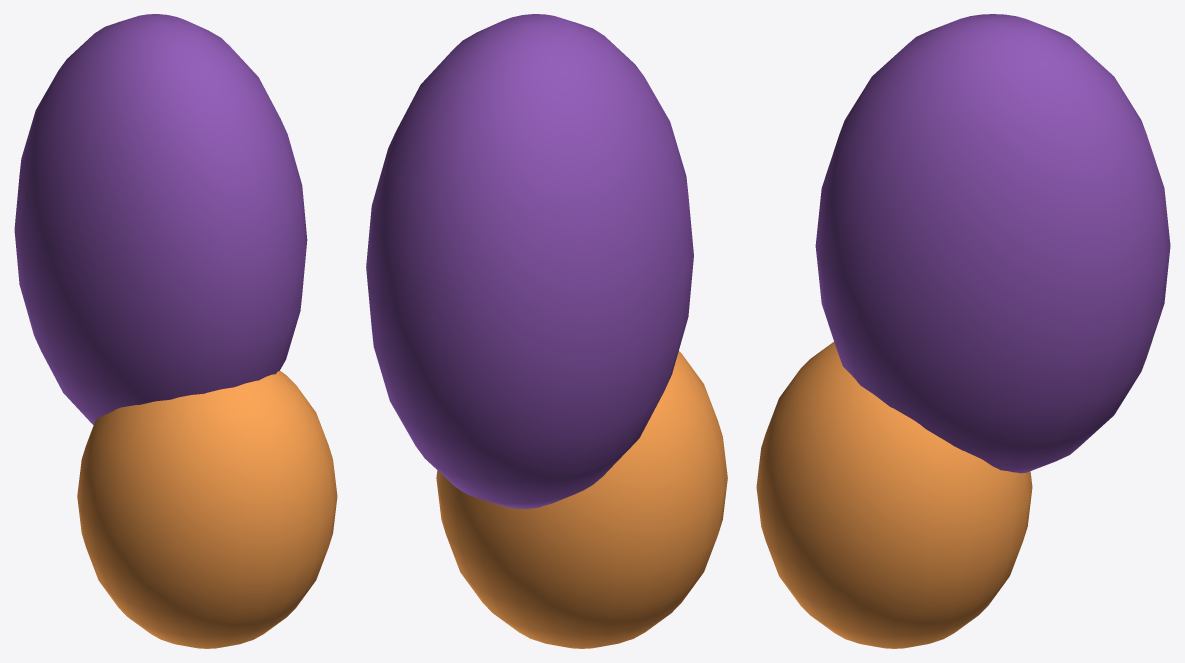
File: fox_arm_l.glb
3 views of the same model, side by side, from view 1: azimuth 30°, elevation 25°; view 2: azimuth 150°, elevation 25°; view 3: azimuth 270°, elevation 25° (orthographic). The views are drawn at different scales.
Visible parts, largest first — view 1: fox arm_l; view 2: fox arm_l; view 3: fox arm_l.
Boxes of the visible parts, x1,y1,x2,y2 form: fox arm_l: [14, 14, 337, 648]; fox arm_l: [366, 14, 727, 648]; fox arm_l: [756, 14, 1170, 648].
Bounding box in the file's own units: 0.3 × 0.69 × 0.42.
